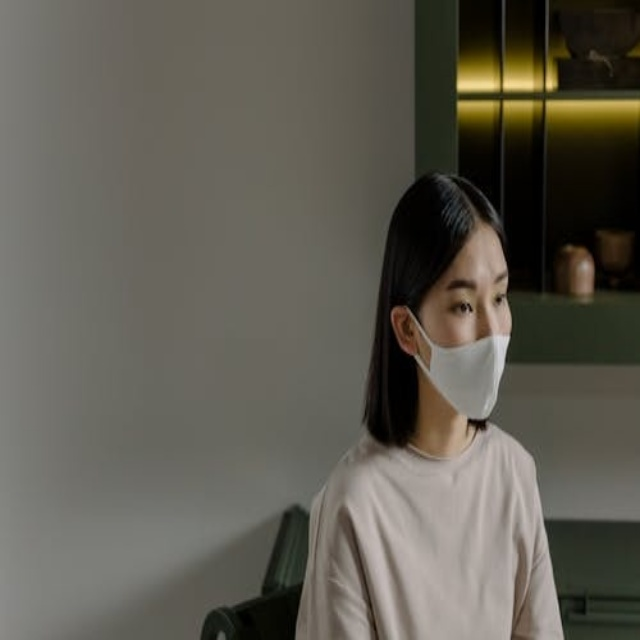Mascara: (404, 308, 508, 421)
Sin_gafas: (442, 259, 515, 319)
